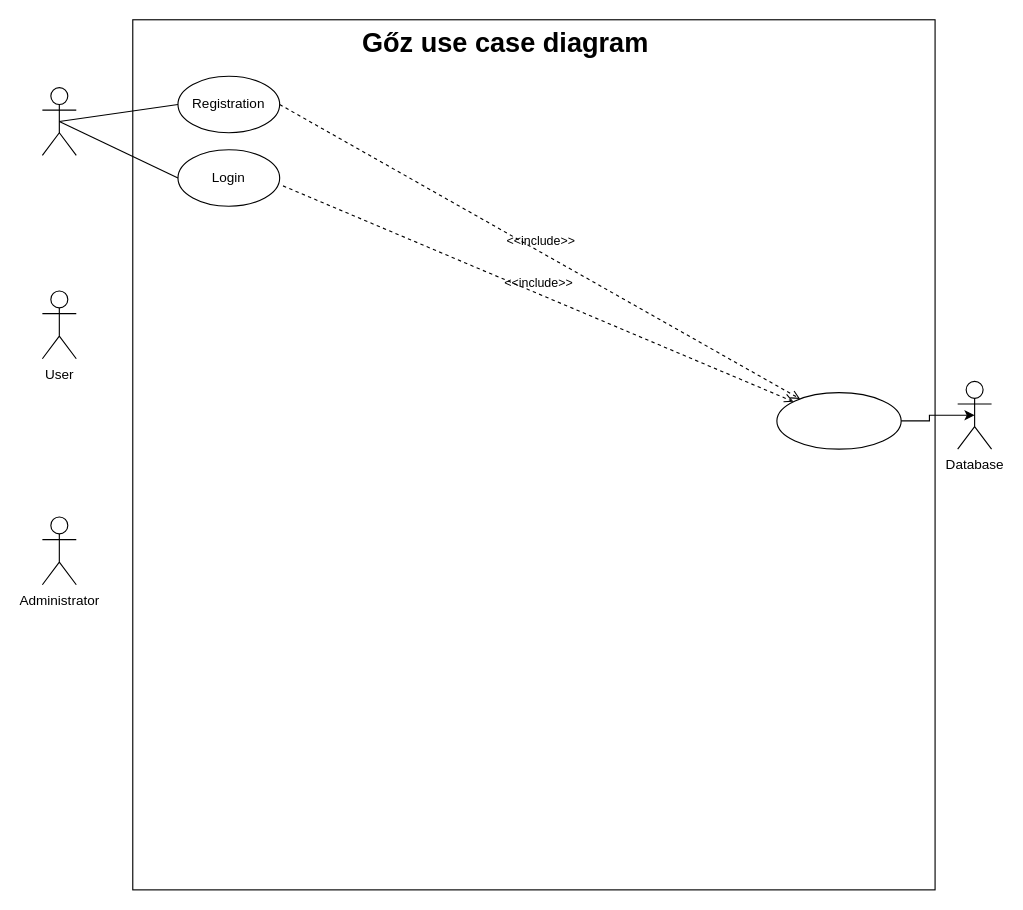
The diagram is 1023 pixels wide and 910 high, and some of its shapes have lost their labels. The shapes that lost their labels are listed below. From the top down, each one's centre as x and y in pixels, then its label:
At point 58,120: "Guiest".
At point 838,420: "Data management".
